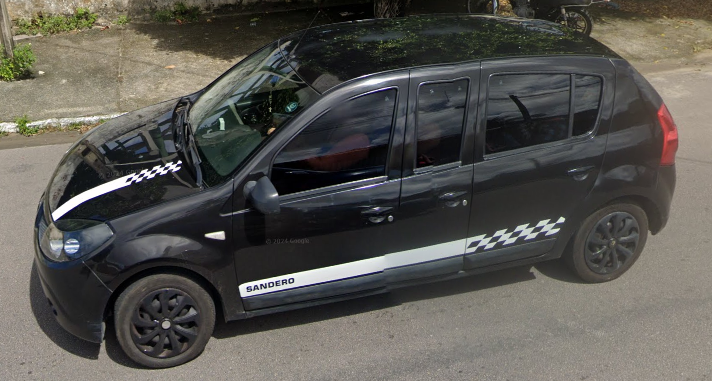car: (31, 14, 678, 368)
